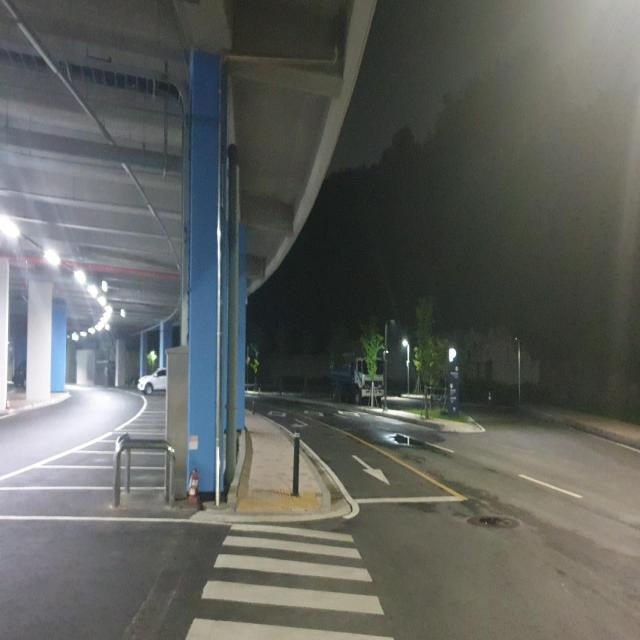횡단보도: (183, 522, 398, 639)
